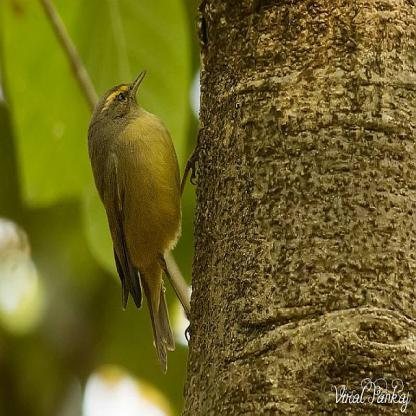Burung: (83, 72, 205, 367)
